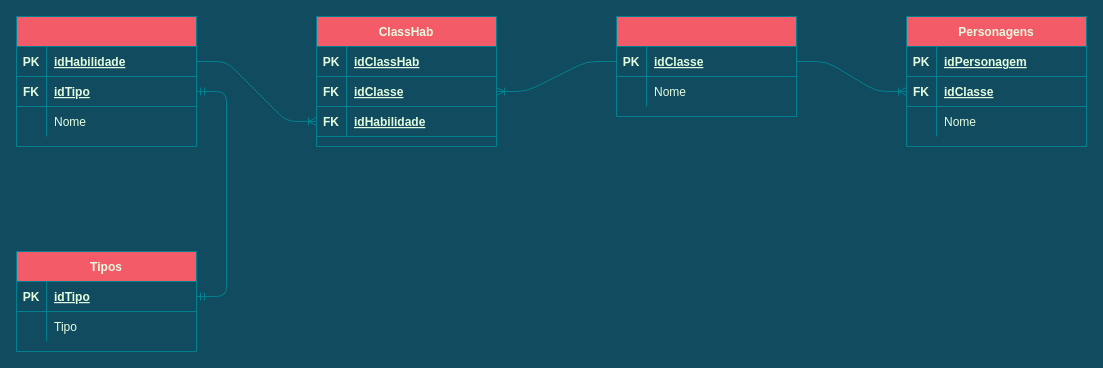
The diagram is 1103 pixels wide and 368 high, and some of its shapes have lost their labels. Here are the shapes that lost their labels. From the top down, the box of each, then its label:
(16, 16, 196, 146): Habilidades
(616, 16, 796, 116): Classes
